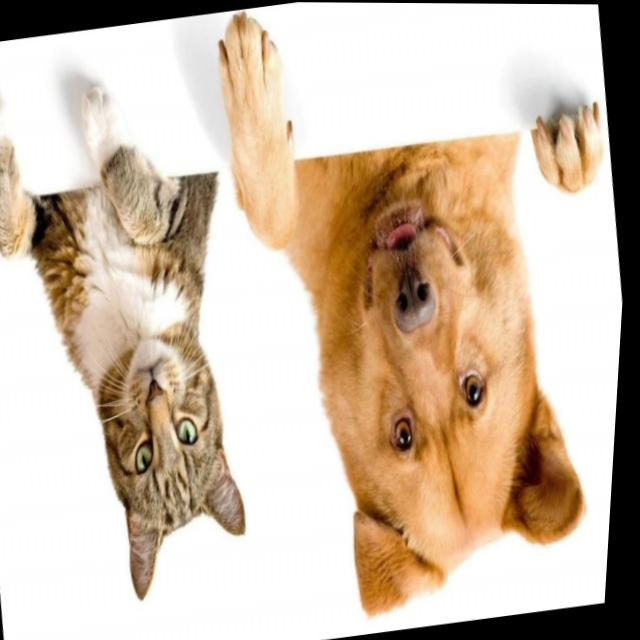Cat: (0, 49, 292, 640)
Dog: (181, 1, 640, 633)
